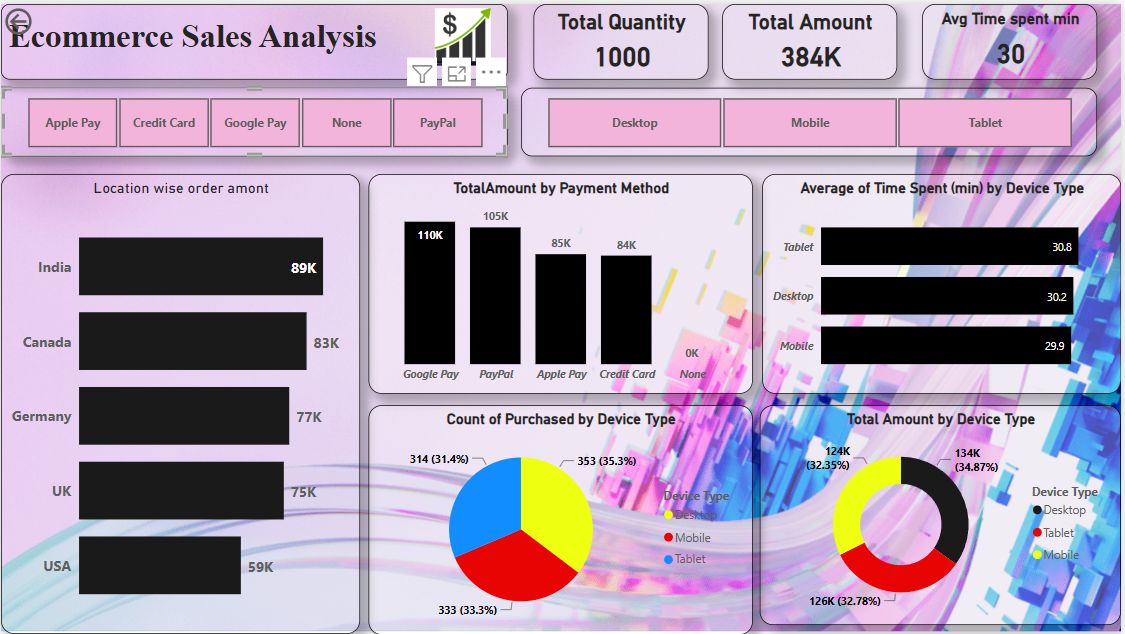

Layout of this report page (visuals, bound fields, positions):
{"tool":"powerbi","page":{"name":"Page 1","canvas":[1280,720],"ordinal":0},"visuals":[{"type":"textbox","box":[0,0,579.1,86.4],"z":0},{"type":"image","box":[448.1,0,159,75.2],"z":1000},{"type":"card","title":"Total Quantity","fields":{"Values":["Sheet1.Total Quntity"]},"box":[607.9,0,200.3,86.4],"z":2000},{"type":"actionButton","box":[0,0,100,40],"z":3000},{"type":"card","title":"Total Amount","fields":{"Values":["Sheet1.TotalAmount"]},"box":[824.7,0,200.3,86.4],"z":4000},{"type":"card","title":"Avg Time spent min","fields":{"Values":["Sheet1.Average_time_spend"]},"box":[1052.5,0,200.3,86.4],"z":5000},{"type":"donutChart","title":"Total Amount  by Device Type","fields":{"Category":["Sheet1.Device Type"],"Y":["Sum(Sheet1.Order Amount)"]},"box":[867.2,458.3,413,251.1],"z":5001},{"type":"columnChart","title":"TotalAmount by Payment Method","fields":{"Category":["Sheet1.Payment Method"],"Y":["Sheet1.TotalAmount"]},"box":[419.9,194.9,439.1,251.1],"z":5002},{"type":"barChart","fields":{"Category":["Sheet1.Device Type"],"Y":["Avg(Sheet1.Time Spent (min))"]},"box":[870,194.9,410.3,251.1],"z":5003},{"type":"slicer","fields":{"Values":["Sheet1.Device Type"]},"box":[594.2,96.1,658.7,78.2],"z":5004},{"type":"slicer","fields":{"Values":["Sheet1.Payment Method"]},"box":[0,96.1,579.1,78.2],"z":5005},{"type":"map","fields":{"Category":["Sheet1.Location"],"Series":["Sheet1.Order Amount"]},"box":[0,194.9,410.3,525.6],"z":5006},{"type":"pieChart","fields":{"Y":["CountNonNull(Sheet1.Purchased)"],"Category":["Sheet1.Device Type"]},"box":[419.9,458.3,439.1,262.1],"z":5007}]}

Visuals, with their boxes in screenshot pixels (x1, y1, x2, y2), scaled from the page's 1280x720 canvas onto the 1125x634 screenshot:
textbox: bbox(0, 0, 509, 76)
image: bbox(394, 0, 534, 66)
"Total Quantity" card: bbox(534, 0, 710, 76)
actionButton: bbox(0, 0, 88, 35)
"Total Amount" card: bbox(725, 0, 901, 76)
"Avg Time spent min" card: bbox(925, 0, 1101, 76)
"Total Amount  by Device Type" donutChart: bbox(762, 404, 1124, 625)
"TotalAmount by Payment Method" columnChart: bbox(369, 172, 755, 393)
barChart - Sheet1.Device Type x Avg(Sheet1.Time Spent (min)): bbox(765, 172, 1124, 393)
slicer - Sheet1.Device Type: bbox(522, 85, 1101, 153)
slicer - Sheet1.Payment Method: bbox(0, 85, 509, 153)
map - Sheet1.Location x Sheet1.Order Amount: bbox(0, 172, 361, 633)
pieChart - CountNonNull(Sheet1.Purchased) x Sheet1.Device Type: bbox(369, 404, 755, 633)
